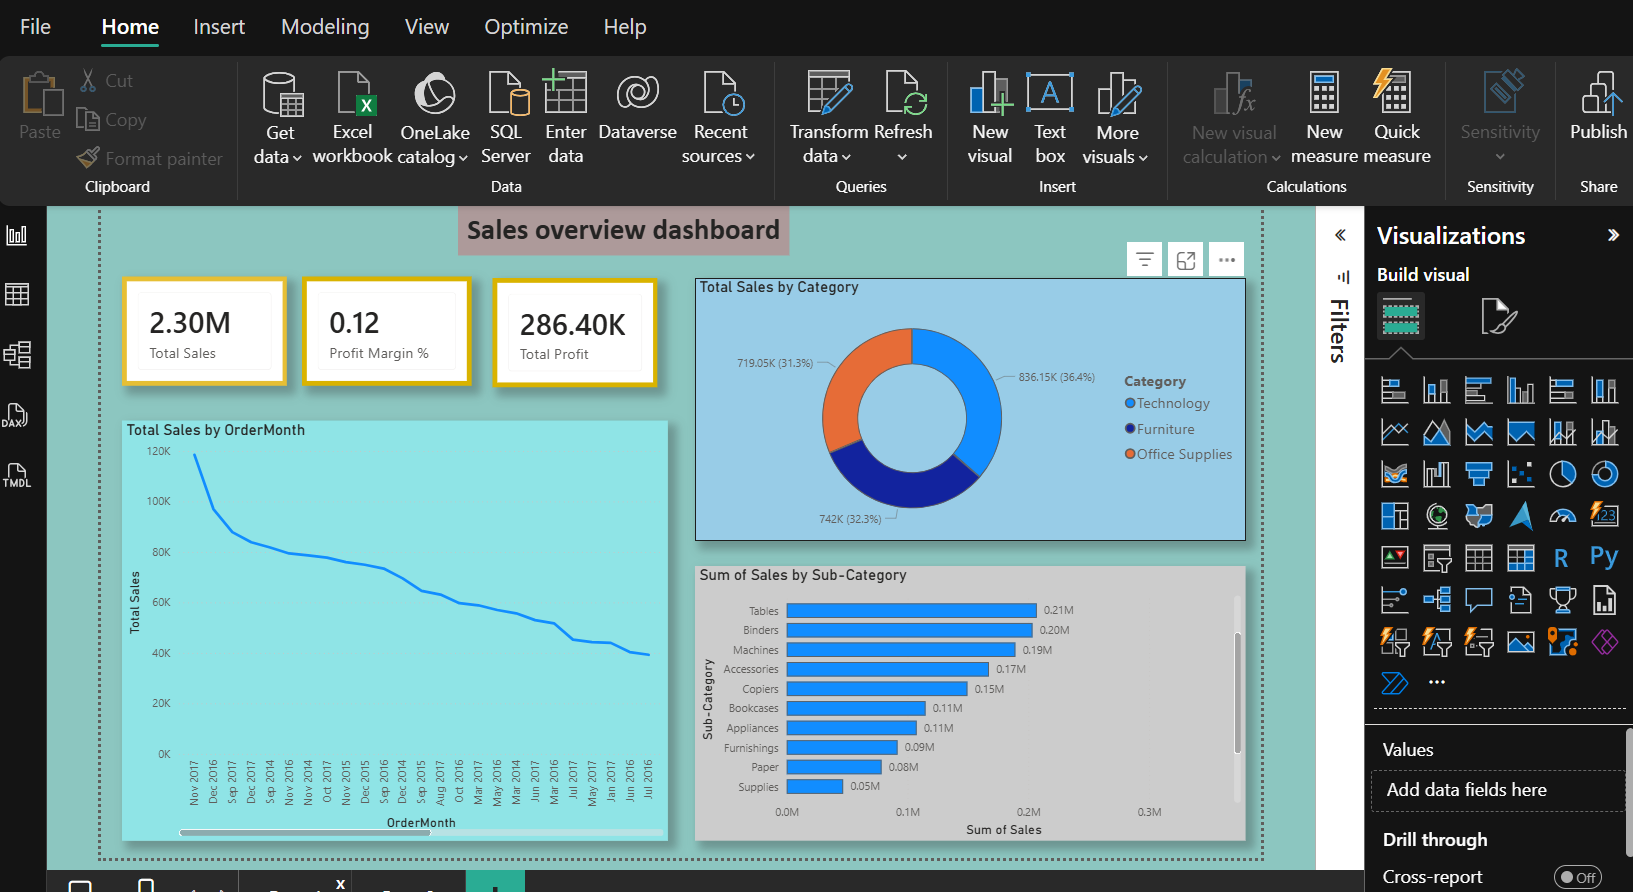

The page's visual inventory and layout, read from the dashboard file:
{"tool":"powerbi","page":{"name":"Page 1","canvas":[1280,720],"ordinal":0},"visuals":[{"type":"cardVisual","title":"Total sales","fields":{"Data":["Sample - Superstore.Total Sales"]},"box":[23.2,77.9,182.2,120.9],"z":0},{"type":"cardVisual","title":"Total Profit","fields":{"Data":["Sample - Superstore.Total Profit"]},"box":[432.3,79.5,182.2,120.9],"z":1000},{"type":"cardVisual","title":"Profit Margin%","fields":{"Data":["Sample - Superstore.Profit Margin %"]},"box":[222,77.9,187.2,120.9],"z":2000},{"type":"lineChart","fields":{"Category":["Sample - Superstore.OrderMonth"],"Y":["Sample - Superstore.Total Sales"]},"box":[23.2,236.9,603,463.8],"z":3000},{"type":"donutChart","fields":{"Category":["Sample - Superstore.Category"],"Y":["Sample - Superstore.Total Sales"]},"box":[656,79.5,607.9,289.9],"z":4000},{"type":"clusteredBarChart","fields":{"Category":["Sample - Superstore.Sub-Category"],"Y":["Sum(Sample - Superstore.Sales)"]},"box":[656,397.6,607.9,303.1],"z":5000},{"type":"textbox","box":[394.2,0,366.1,54.7],"z":6000}]}

Visuals, with their boxes on the page's 1280x720 design canvas (x1, y1, x2, y2). These are canvas units, not pixel positions in the 1633x892 screenshot, which may show the page scaled, cropped or inside an application window:
"Total sales" cardVisual: (x1=23, y1=78, x2=205, y2=199)
"Total Profit" cardVisual: (x1=432, y1=80, x2=614, y2=200)
"Profit Margin%" cardVisual: (x1=222, y1=78, x2=409, y2=199)
lineChart - Sample - Superstore.OrderMonth x Sample - Superstore.Total Sales: (x1=23, y1=237, x2=626, y2=701)
donutChart - Sample - Superstore.Category x Sample - Superstore.Total Sales: (x1=656, y1=80, x2=1264, y2=369)
clusteredBarChart - Sample - Superstore.Sub-Category x Sum(Sample - Superstore.Sales): (x1=656, y1=398, x2=1264, y2=701)
textbox: (x1=394, y1=0, x2=760, y2=55)
